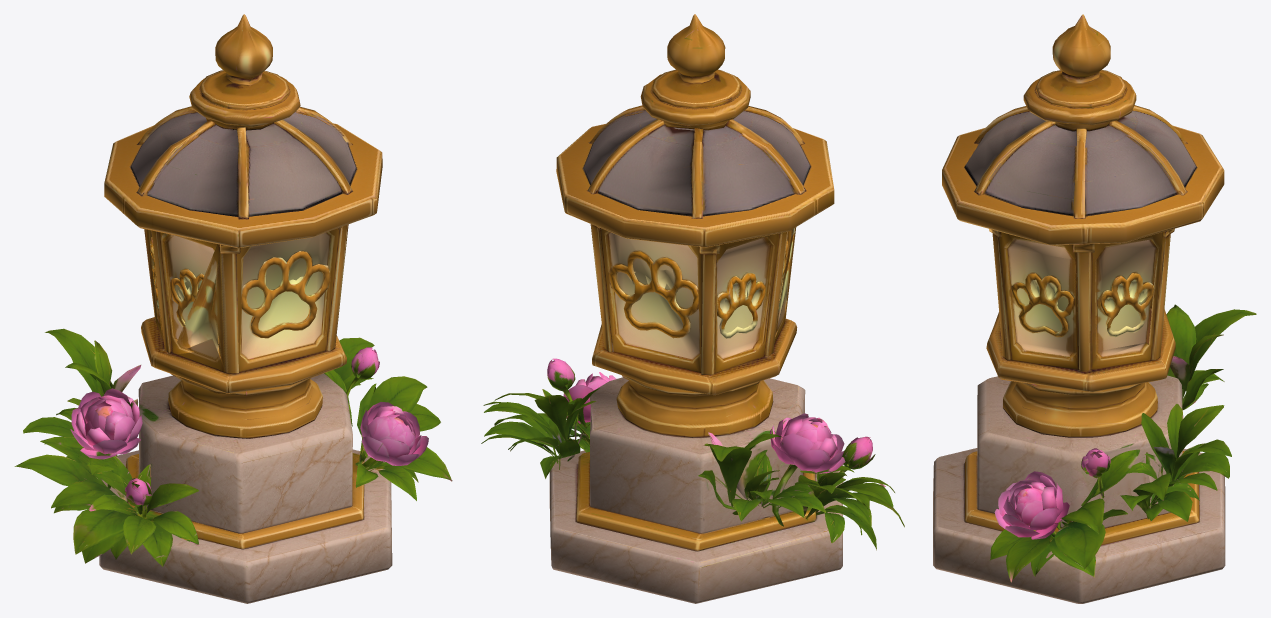
Rendered from Meshy_AI_Golden_Paw_Lantern_1114023053_texture.glb.
3 views of the same model, side by side, from view 1: azimuth 30°, elevation 25°; view 2: azimuth 150°, elevation 25°; view 3: azimuth 270°, elevation 25° (orthographic).
Size of the model in its own units: 0.7661 by 0.9512 by 0.5366.
1 material, 1 textured.
